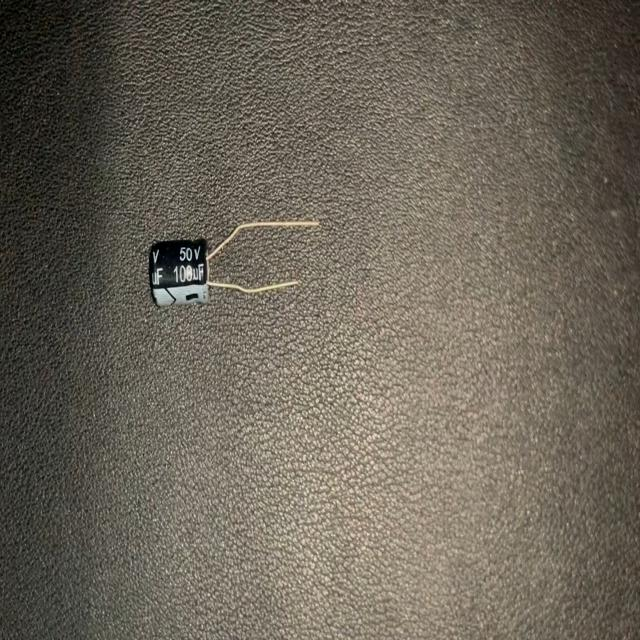capacitor: (147, 212, 322, 314)
